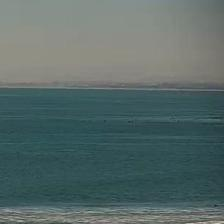surfer: (213, 204, 218, 207)
